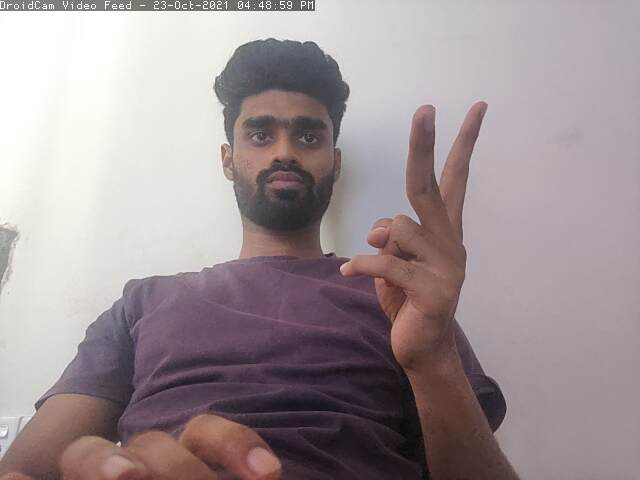Victory: (347, 101, 492, 362)
